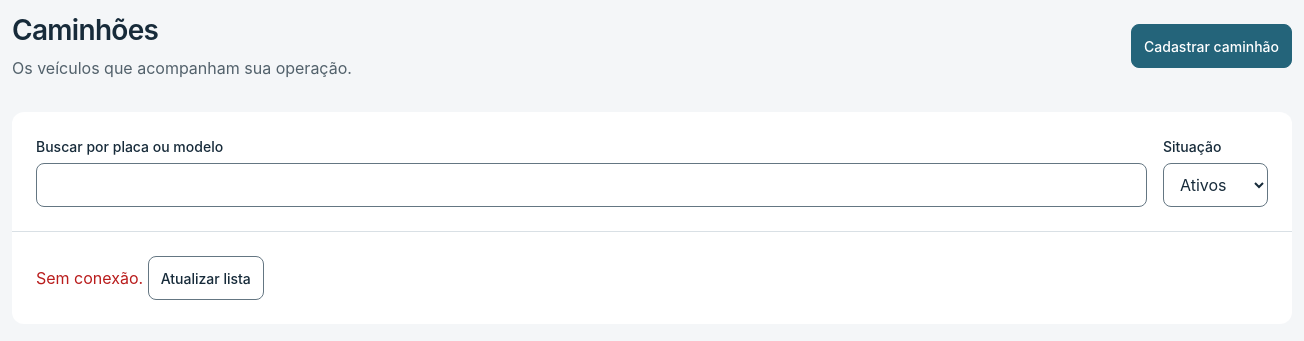
Test: recupera falha de consulta sem apresentar dados ficticios
Expected: the text "Sem conexão." is shown, 36,268 -> 143,288
Click the button "Atualizar lista": {"x": 206, "y": 278} 148,256 -> 264,300
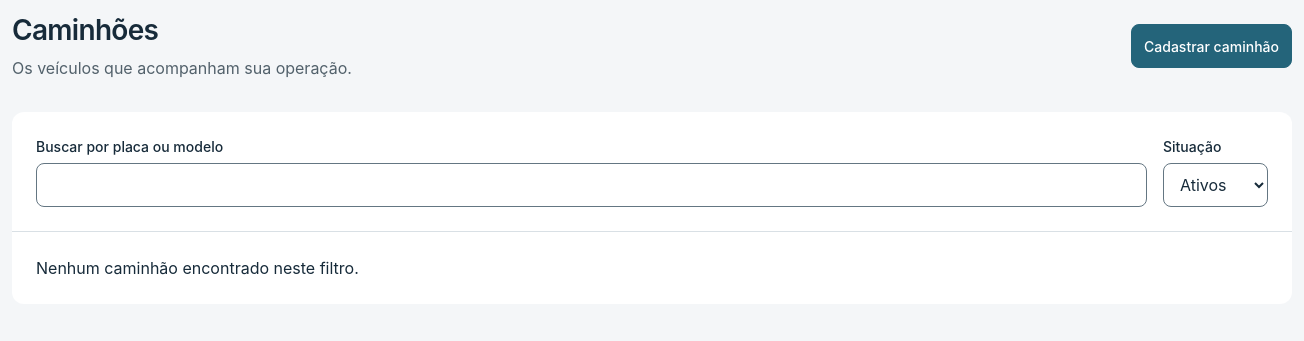
Expected: the text "Nenhum caminhão encontrado neste filtro." is shown, 36,258 -> 359,278
